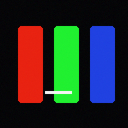3 line_h: (45, 91, 71, 93)
